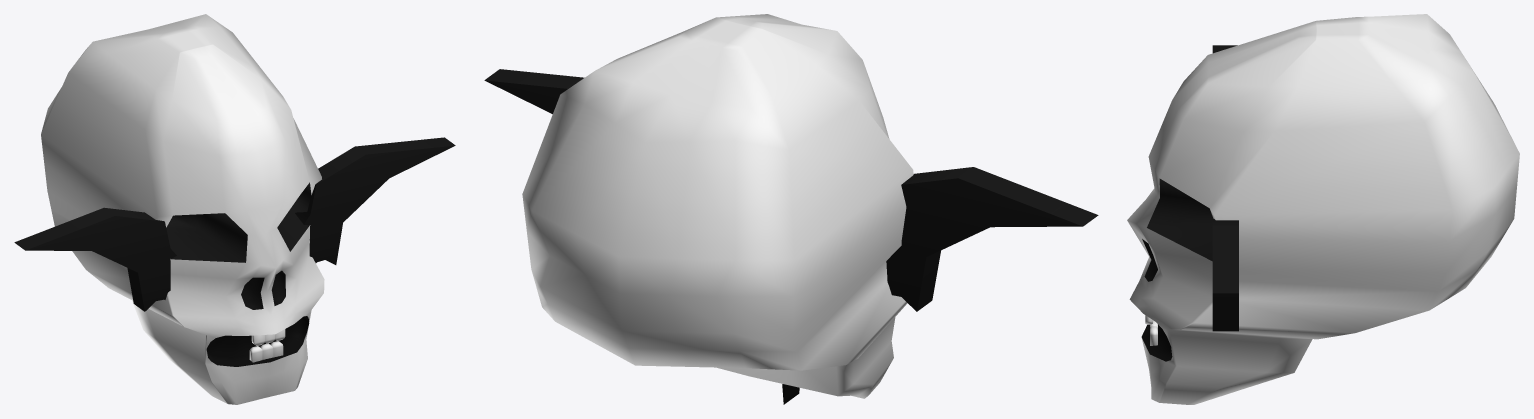
The model's file is collectable.fbx.
The picture shows the model from 3 angles, left to right: view 1: azimuth 30°, elevation 25°; view 2: azimuth 150°, elevation 25°; view 3: azimuth 270°, elevation 25°; orthographic projection. The views are drawn at different scales.
Parts seen in each view (by area): view 1: skull, bat; view 2: skull, bat; view 3: skull, bat.
Part boxes in pixels (<box>): skull: <box>41,14,324,404</box>; bat: <box>14,137,455,311</box>; skull: <box>522,14,913,398</box>; bat: <box>484,69,1098,404</box>; skull: <box>1127,14,1519,404</box>; bat: <box>1212,45,1238,331</box>.
Size of the model in its own units: 93.89 by 62.45 by 62.87.
